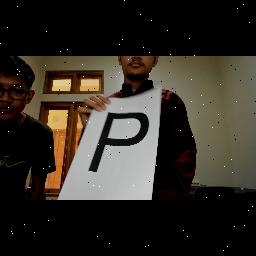p: (87, 106, 151, 184)
